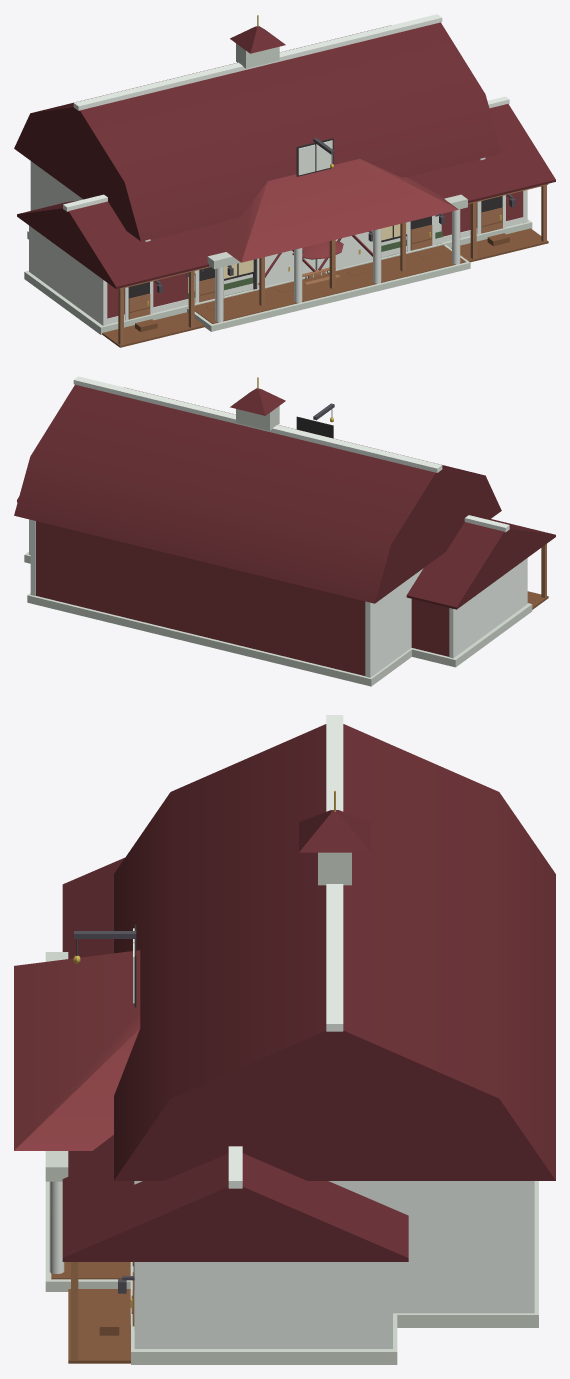
The model's file is downs-stable.glb.
3 renders of one model, top to bottom at view 1: azimuth 30°, elevation 25°; view 2: azimuth 150°, elevation 25°; view 3: azimuth 270°, elevation 25°, orthographic. The views are drawn at different scales.
Parts seen in each view (by area): view 1: dn_hay_barn_barn2, dn_stable_block_barn2, dn_pavilion_barn, dn_hay_barn_mint, dn_stable_block_mint, dn_pavilion_saddle2, dn_stable_block_saddle, dn_stable_block_saddle2, dn_pavilion_mint2, dn_pavilion_mint, dn_stable_block_mint2, dn_hay_barn_barn (+7 smaller); view 2: dn_hay_barn_barn2, dn_hay_barn_barn, dn_hay_barn_mint, dn_stable_block_barn2, dn_hay_barn_mint2, dn_stable_block_mint, dn_stable_block_barn, dn_stable_block_mint2, dn_hay_barn_black; view 3: dn_hay_barn_barn2, dn_stable_block_barn2, dn_hay_barn_mint, dn_stable_block_mint, dn_pavilion_barn, dn_stable_block_mint2, dn_stable_block_saddle2, dn_hay_barn_mint2, dn_pavilion_mint2, dn_pavilion_mint, dn_pavilion_saddle2, dn_stable_block_saddle.
Part boxes in pixels (box(x1,y1,x2,y2)): dn_hay_barn_barn2: box(14, 22, 501, 241); dn_stable_block_barn2: box(17, 104, 555, 288); dn_pavilion_barn: box(218, 158, 458, 262); dn_hay_barn_mint: box(30, 14, 485, 313); dn_stable_block_mint: box(29, 96, 527, 325); dn_pavilion_saddle2: box(194, 245, 465, 323); dn_stable_block_saddle: box(118, 184, 548, 345); dn_stable_block_saddle2: box(102, 221, 548, 347); dn_pavilion_mint2: box(187, 194, 470, 331); dn_pavilion_mint: box(188, 209, 460, 322); dn_stable_block_mint2: box(24, 219, 532, 334); dn_hay_barn_barn: box(150, 159, 479, 307); dn_hay_barn_barn2: box(14, 384, 501, 603); dn_hay_barn_barn: box(36, 521, 365, 675); dn_hay_barn_mint: box(30, 376, 442, 677); dn_stable_block_barn2: box(17, 496, 555, 609); dn_hay_barn_mint2: box(27, 406, 411, 686); dn_stable_block_mint: box(29, 515, 527, 658); dn_stable_block_barn: box(411, 599, 449, 656); dn_stable_block_mint2: box(24, 552, 532, 667); dn_hay_barn_black: box(296, 416, 333, 438); dn_hay_barn_barn2: box(114, 724, 555, 1180); dn_stable_block_barn2: box(62, 857, 408, 1261); dn_hay_barn_mint: box(133, 715, 534, 1313); dn_stable_block_mint: box(134, 1146, 392, 1348); dn_pavilion_barn: box(14, 950, 140, 1150); dn_stable_block_mint2: box(131, 1262, 397, 1364); dn_stable_block_saddle2: box(68, 1262, 132, 1363); dn_hay_barn_mint2: box(130, 852, 538, 1327); dn_pavilion_mint2: box(45, 952, 130, 1291); dn_pavilion_mint: box(49, 1181, 64, 1273); dn_pavilion_saddle2: box(51, 1262, 130, 1279); dn_stable_block_saddle: box(70, 1262, 134, 1359).
Size of the model in its own units: 31.4 by 15.22 by 19.12.
